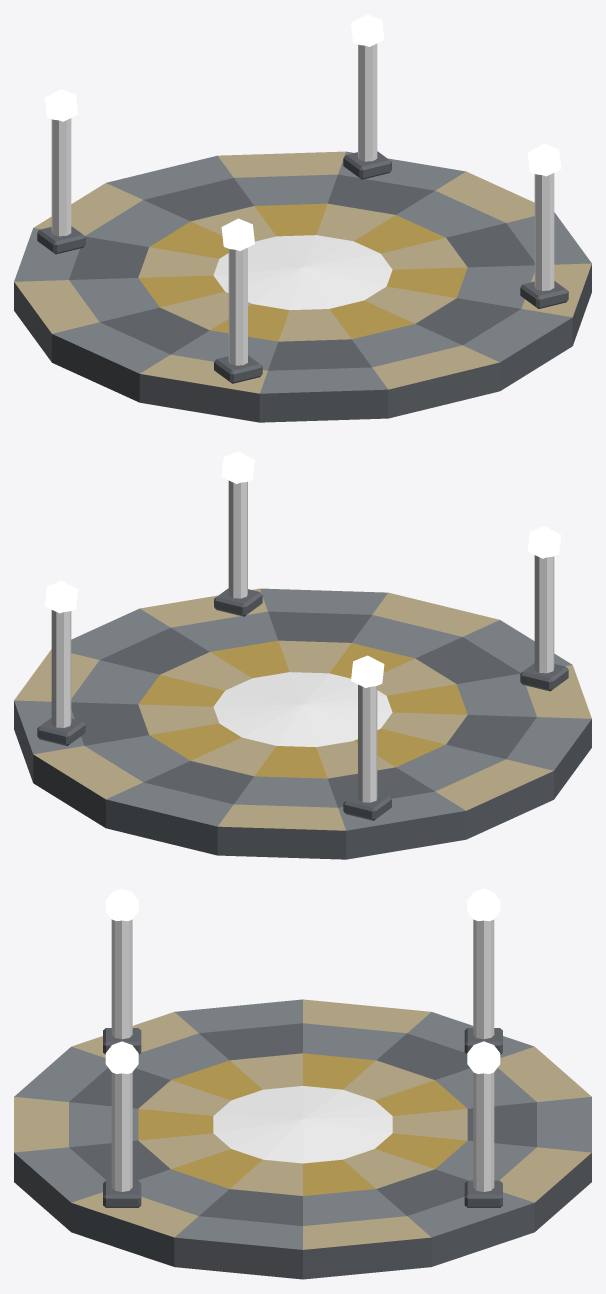
File: spawn_pad.glb
3 renders of one model, top to bottom at view 1: azimuth 30°, elevation 25°; view 2: azimuth 150°, elevation 25°; view 3: azimuth 270°, elevation 25°, orthographic. The views are drawn at different scales.
Parts seen in each view (by area): view 1: SpawnPad; view 2: SpawnPad; view 3: SpawnPad.
Part boxes in pixels (x1,y1,x2,y2): SpawnPad: (14, 14, 591, 422); SpawnPad: (14, 451, 591, 859); SpawnPad: (14, 888, 591, 1279).
Bounding box in the file's own units: 4 × 1.41 × 3.9.
